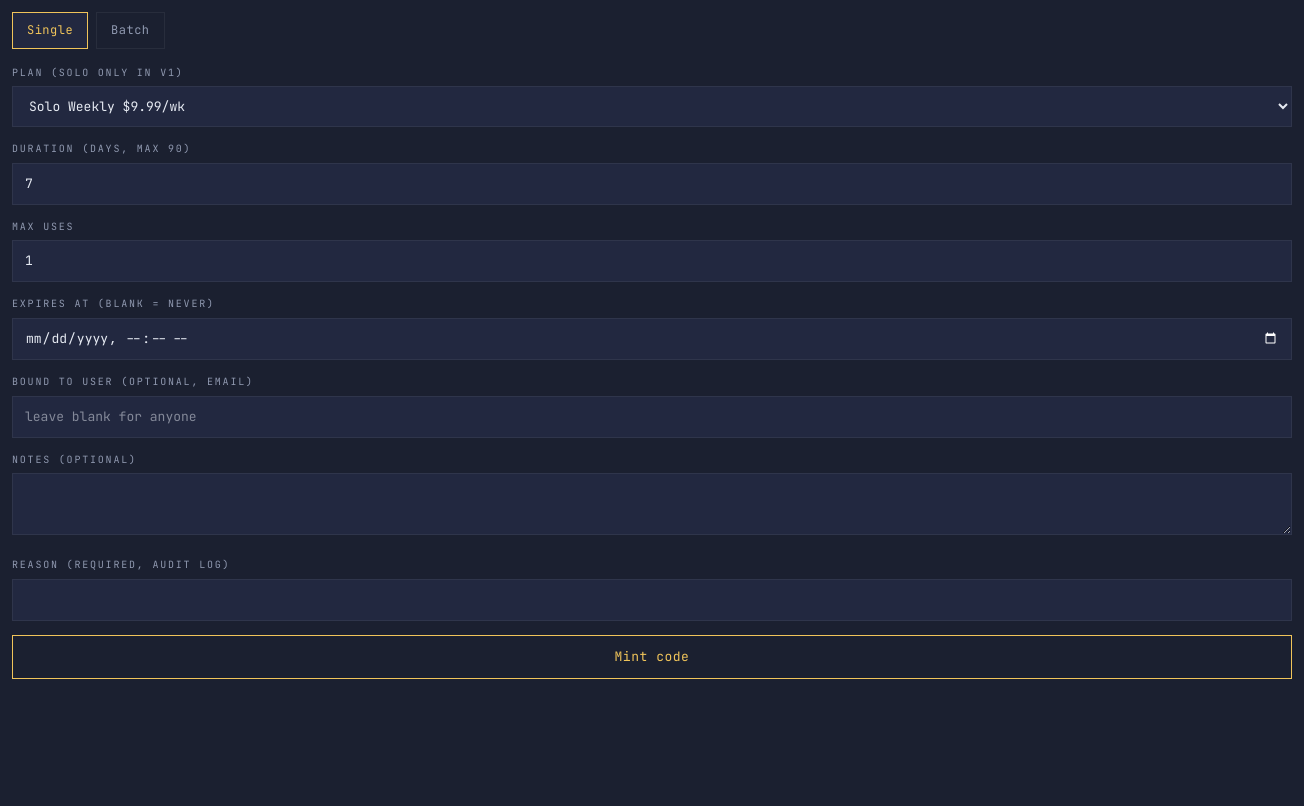
Test case: MintCompCodeForm › switches to batch mode and posts to /batch with count
The width and height of the screenshot is (1304, 806).
Click the tab "batch" at (130, 30), box [96,12,164,49]
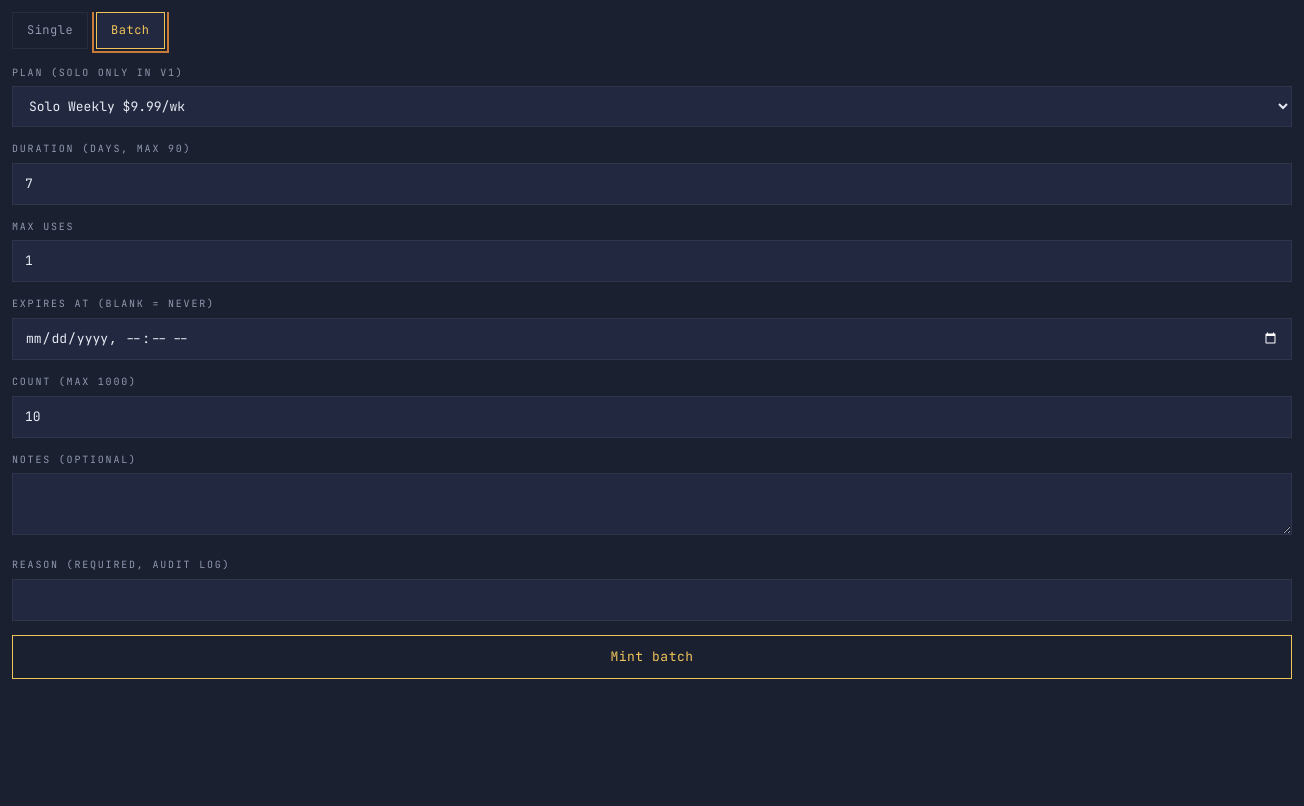
Replace the text in the number field labelled "Count (max 1000)" with "5" at (652, 417), box [12,396,1292,438]
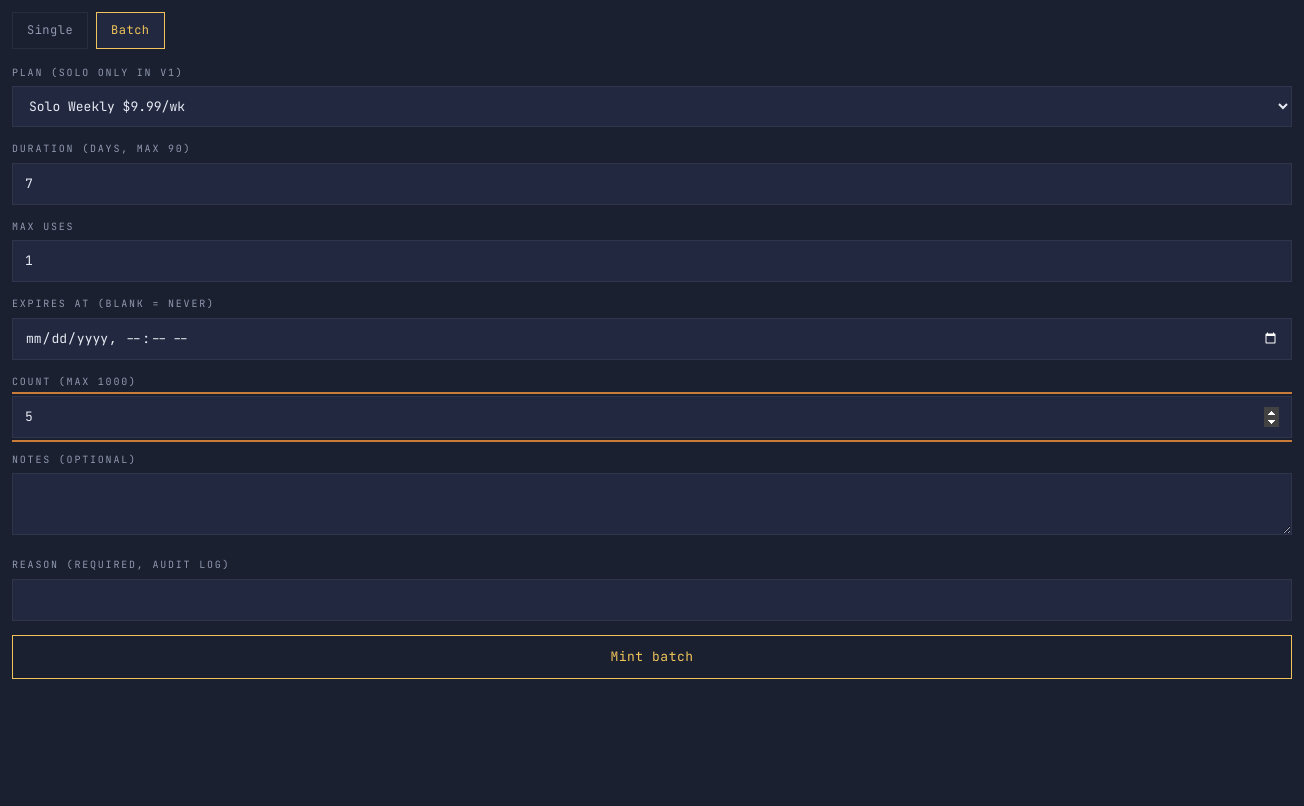
Type "Q2 promo" into the field labelled "Reason (required, audit log)" at (652, 600), box [12,579,1292,621]
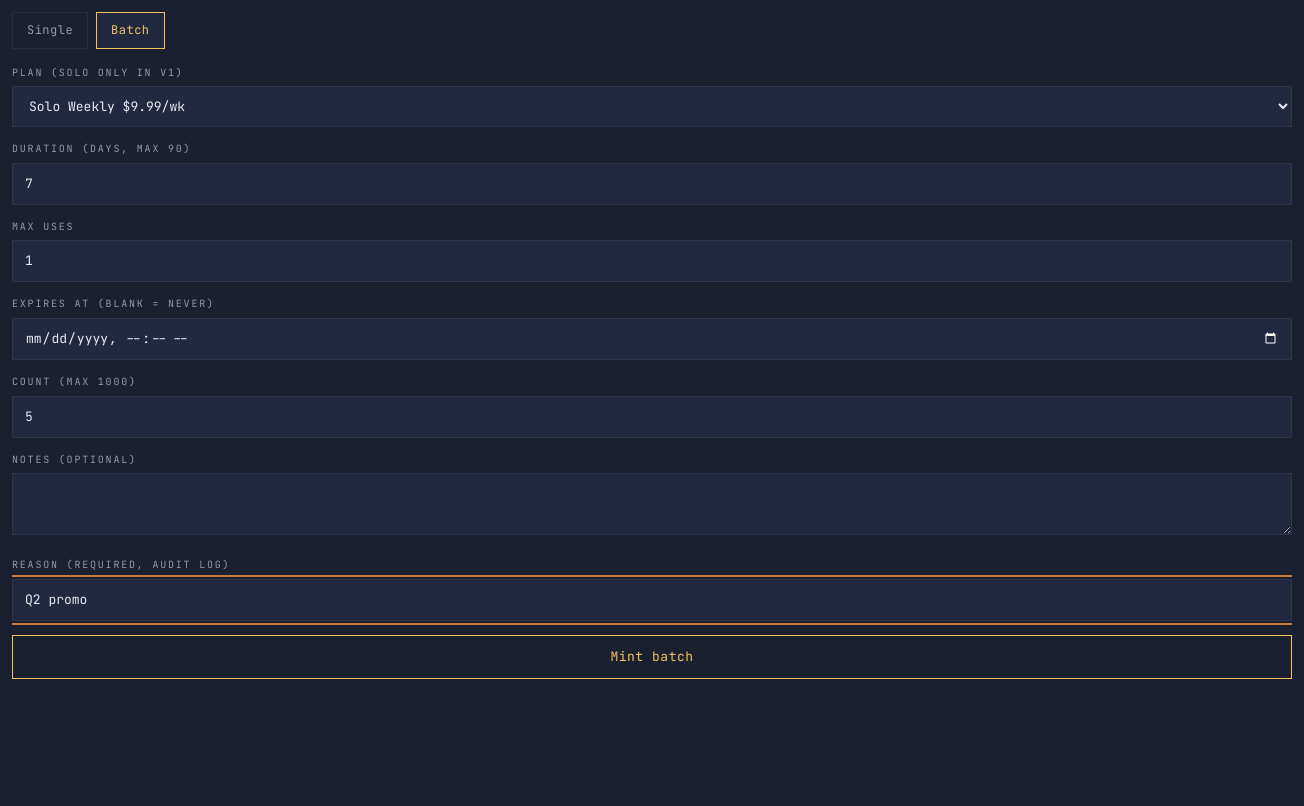
Click the button "Mint batch" at (652, 657), box [12,635,1292,679]
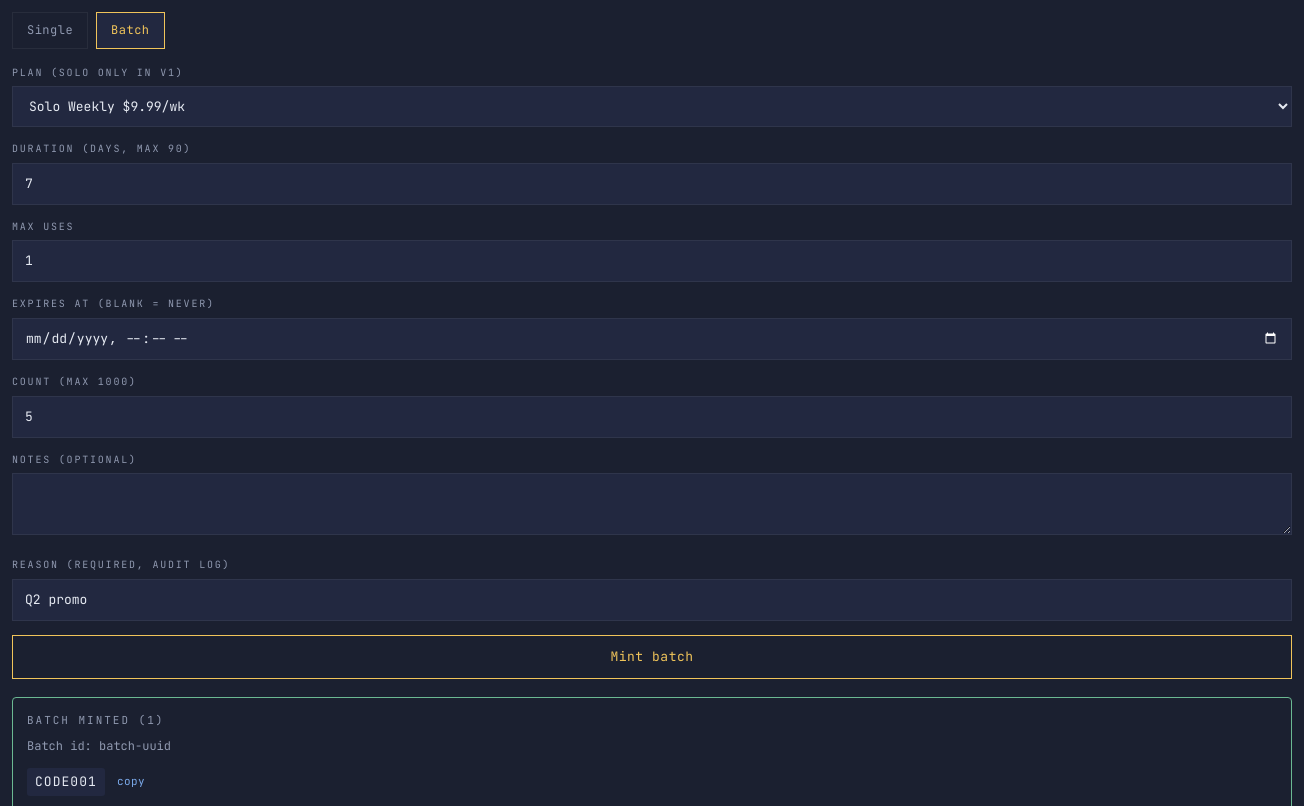
Result: the text "CODE001" is shown at [27,768,105,796]
